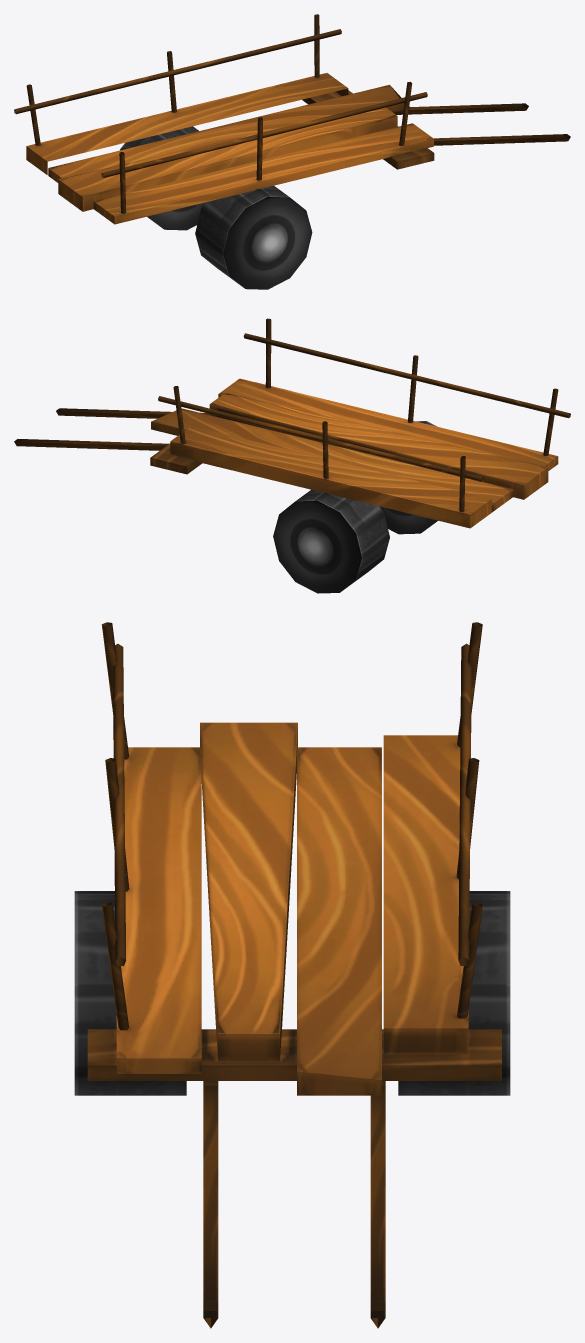
The model's file is Telega.fbx.
3 views of the same model, one above another, from view 1: azimuth 30°, elevation 25°; view 2: azimuth 150°, elevation 25°; view 3: azimuth 270°, elevation 25° (orthographic). The views are drawn at different scales.
Visible parts, largest first — view 1: Telega; view 2: Telega; view 3: Telega.
Part boxes in pixels (box(x1,y1,x2,y2)): Telega: box(14, 14, 570, 289); Telega: box(14, 318, 570, 593); Telega: box(74, 622, 510, 1328).
Size of the model in its own units: 656 by 210 by 253.
1 material, 1 textured.
